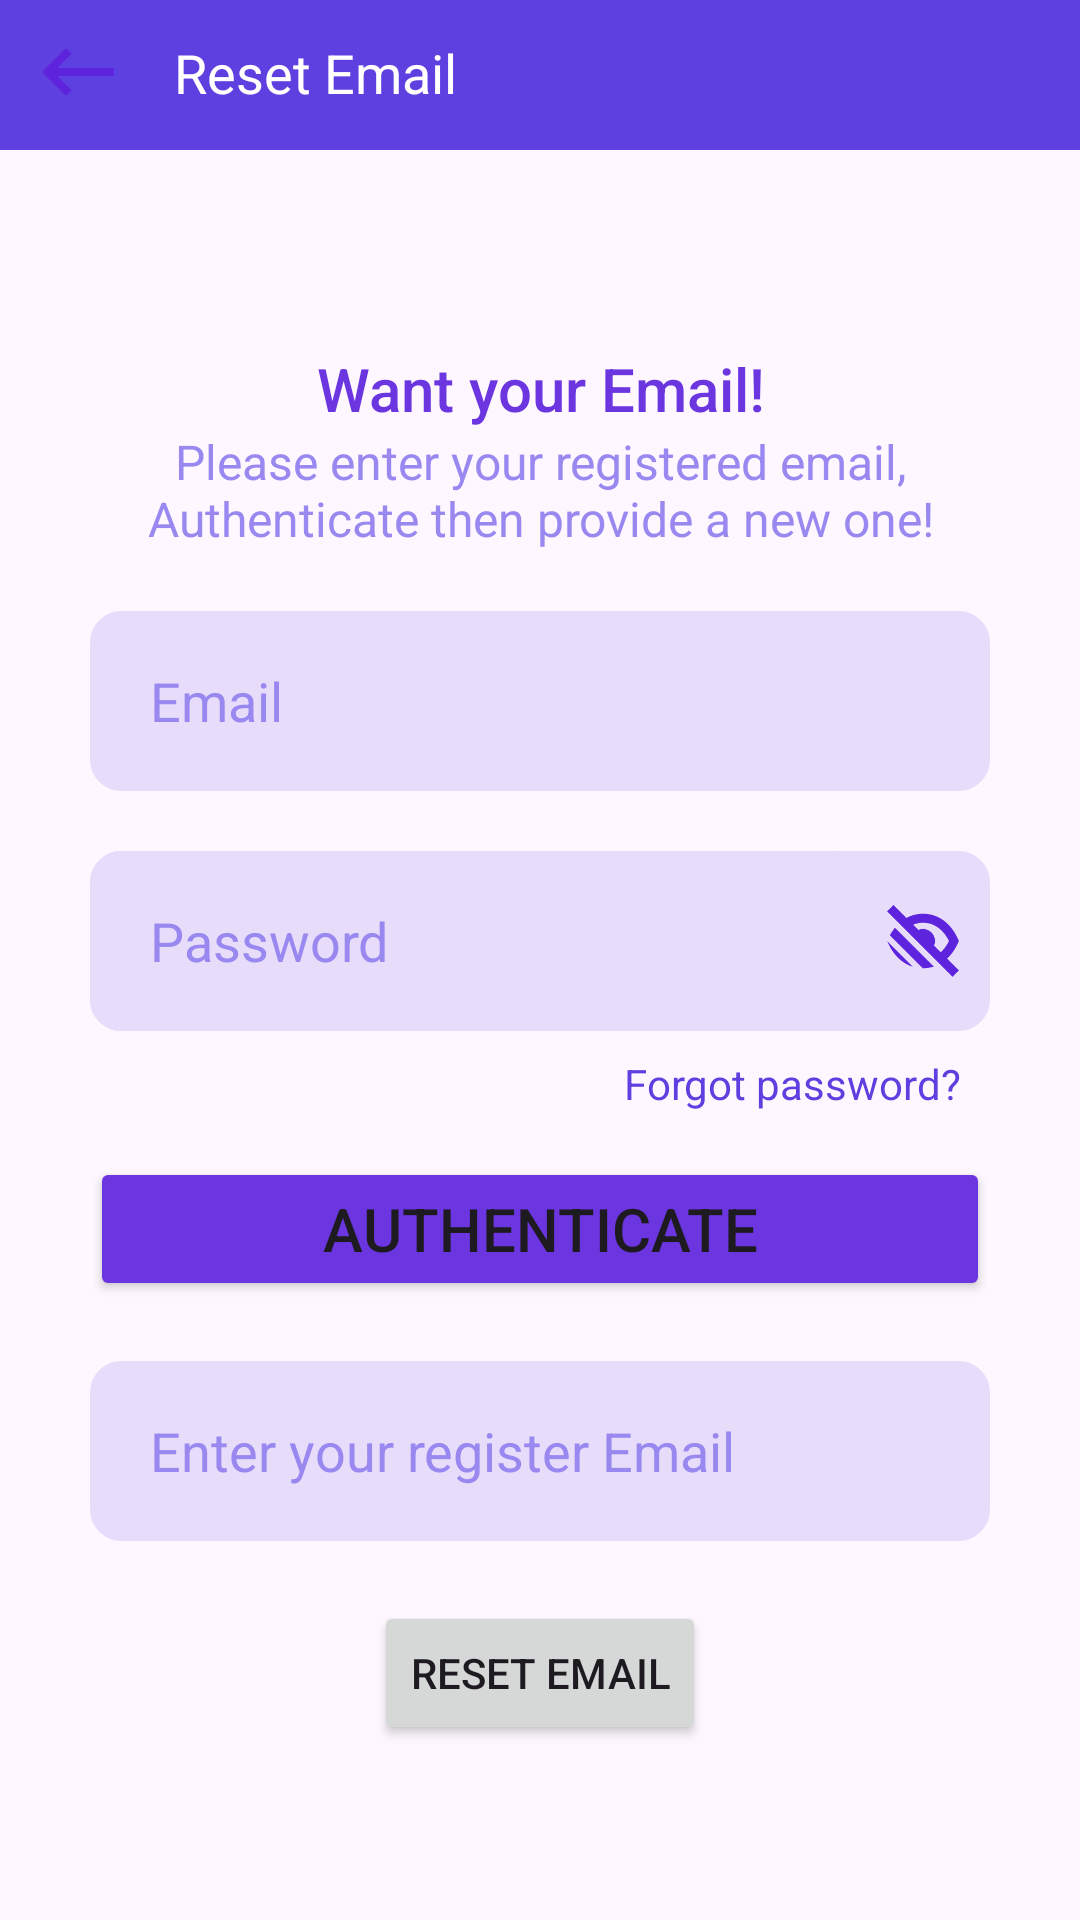

Named icons in this screenshot (1080*1920) and their centers, (x,y):
back: (78,72)
eye close: (923,941)
